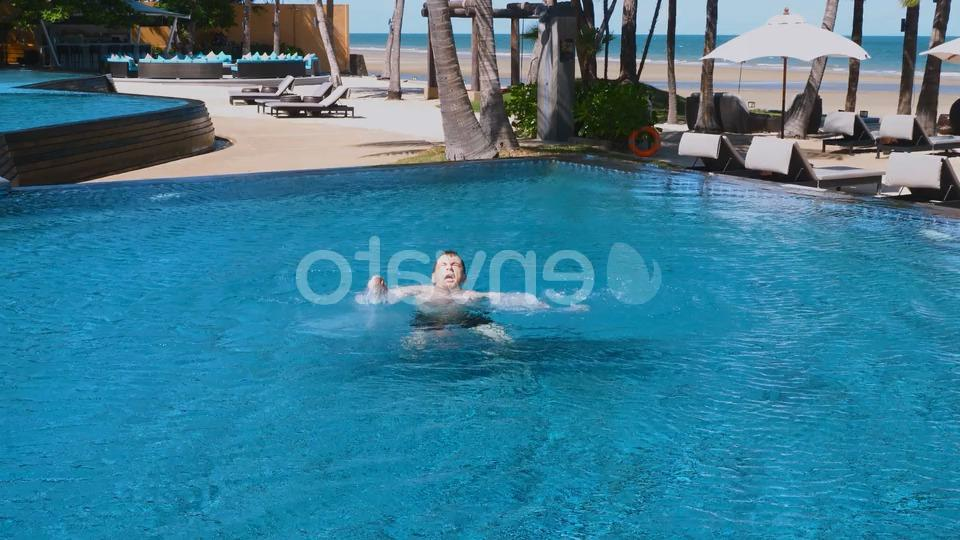Drowning: (313, 188, 635, 376)
